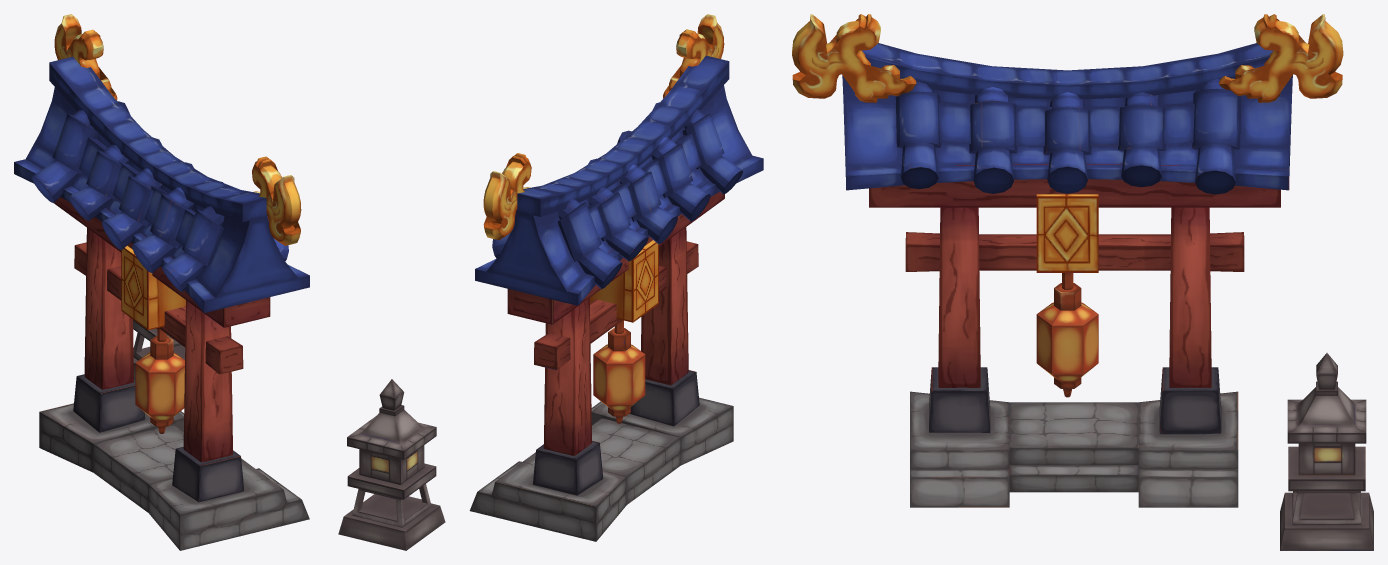
The model's file is china3_lvl.fbx.
The picture shows the model from 3 angles, left to right: view 1: azimuth 30°, elevation 25°; view 2: azimuth 150°, elevation 25°; view 3: azimuth 270°, elevation 25°; orthographic projection. The views are drawn at different scales.
Parts seen in each view (by area): view 1: Cylinder.003, Cube.003, Cube.005, Circle.001, Cylinder, Cube.001, Cylinder.004, Cube.002, Cylinder.006, Cylinder.007, Cylinder.008, Cylinder.009 (+3 smaller); view 2: Cylinder.003, Cube.003, Cube.005, Cube.028, Circle.001, Cylinder, Cylinder.004, Cube.001, Cube.002, Cylinder.007, Cube.004, Cylinder.006 (+3 smaller); view 3: Cube.005, Cylinder.003, Cube.003, Cube.028, Circle.001, Cube.004, Cube.002, Cylinder, Cube.001, Cylinder.005, Cylinder.004, Cylinder.007 (+3 smaller).
Boxes of the visible parts, x1,y1,x2,y2 form: Cylinder.003: [14, 56, 309, 312]; Cube.003: [73, 228, 244, 502]; Cube.005: [39, 403, 309, 550]; Circle.001: [54, 14, 301, 245]; Cylinder: [135, 328, 184, 433]; Cube.001: [121, 245, 185, 330]; Cylinder.004: [31, 101, 130, 203]; Cube.002: [74, 242, 243, 374]; Cylinder.006: [162, 206, 288, 291]; Cylinder.007: [132, 181, 223, 273]; Cylinder.008: [102, 162, 193, 249]; Cylinder.009: [68, 137, 162, 220]; Cylinder.003: [475, 55, 763, 305]; Cube.003: [533, 227, 699, 495]; Cube.005: [469, 397, 733, 541]; Cube.028: [338, 379, 445, 550]; Circle.001: [483, 14, 724, 240]; Cylinder: [593, 320, 645, 423]; Cylinder.004: [492, 199, 622, 289]; Cube.001: [589, 240, 658, 322]; Cube.002: [534, 241, 698, 370]; Cylinder.007: [617, 130, 710, 221]; Cube.004: [507, 192, 724, 324]; Cylinder.006: [652, 102, 742, 194]; Cube.005: [910, 391, 1238, 507]; Cylinder.003: [842, 43, 1292, 190]; Cube.003: [929, 207, 1221, 434]; Cube.028: [1280, 353, 1373, 550]; Circle.001: [792, 14, 1343, 102]; Cube.004: [869, 179, 1280, 207]; Cube.002: [905, 232, 1244, 271]; Cylinder: [1036, 273, 1098, 397]; Cube.001: [1036, 194, 1098, 272]; Cylinder.005: [938, 103, 1194, 146]; Cylinder.004: [1192, 79, 1241, 194]; Cylinder.007: [969, 87, 1017, 193].
Size of the model in its own units: 953 by 1619 by 1877.
